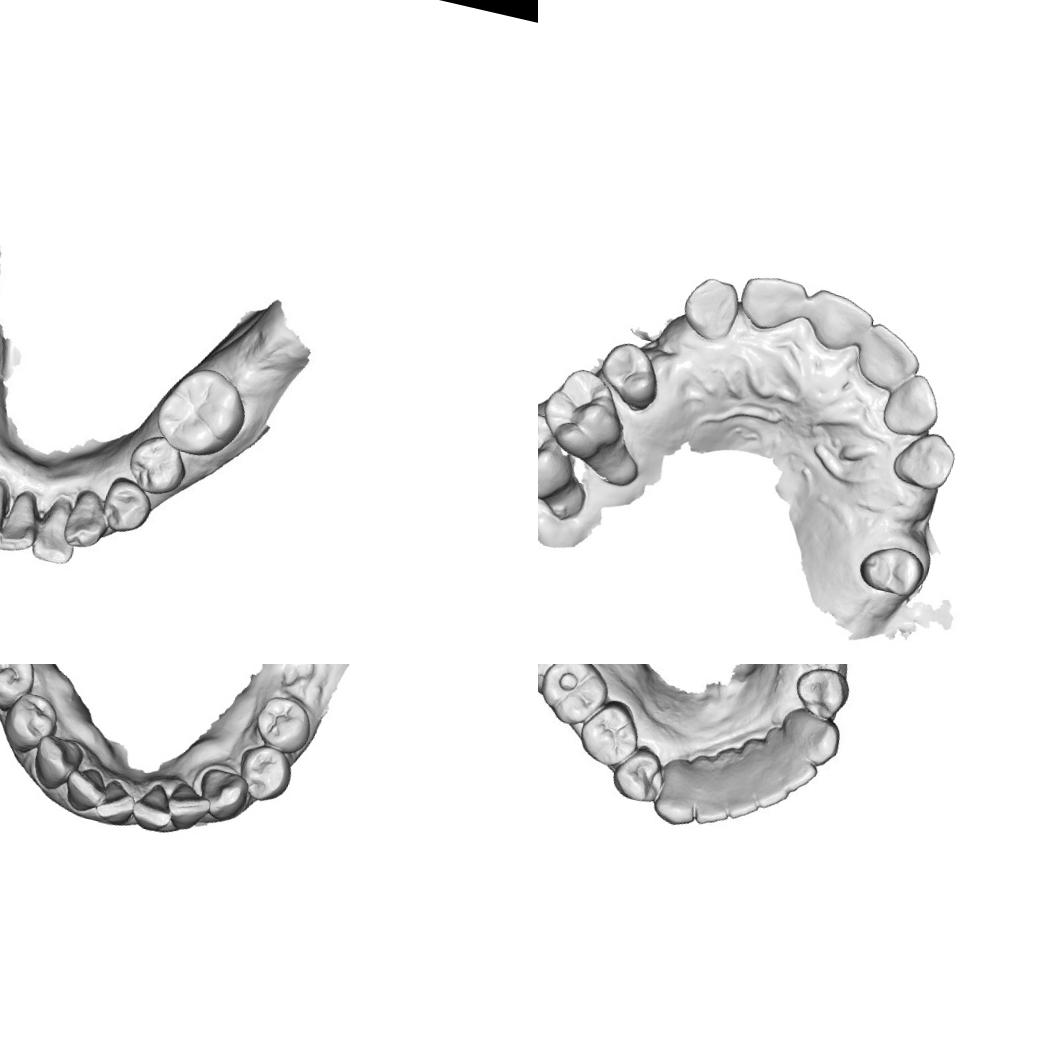canine: (676, 272, 745, 346), (888, 424, 960, 494), (781, 706, 844, 772), (26, 730, 88, 797), (648, 766, 708, 832), (194, 764, 254, 826), (60, 484, 112, 552)
incisor: (848, 317, 929, 399), (800, 284, 880, 359), (733, 269, 812, 340), (877, 366, 946, 444), (26, 494, 86, 568), (0, 484, 48, 557), (159, 777, 215, 837), (128, 777, 182, 837), (686, 774, 740, 832), (58, 760, 110, 818), (90, 776, 140, 830), (768, 746, 820, 796), (750, 760, 796, 815), (718, 771, 764, 825), (0, 471, 12, 543)
molar: (147, 358, 255, 465), (538, 360, 635, 469), (538, 664, 617, 732), (538, 404, 587, 508)
premolar: (591, 336, 667, 413), (573, 694, 647, 773), (852, 536, 932, 604), (122, 430, 194, 502), (248, 690, 320, 758), (0, 686, 63, 762), (232, 739, 298, 809), (610, 740, 671, 808), (788, 664, 854, 726), (98, 474, 156, 538), (0, 664, 42, 719)
